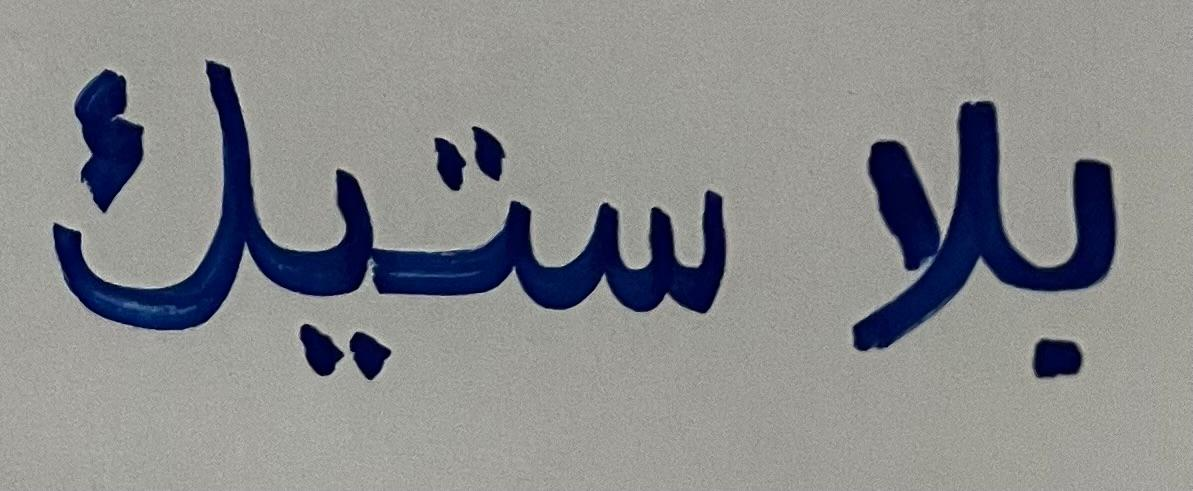beh: (1020, 81, 1155, 441)
kaf: (29, 25, 257, 409)
lam: (806, 40, 1013, 381)
seen: (548, 112, 776, 428)
teh: (399, 43, 539, 374)
yeh: (261, 92, 393, 431)
